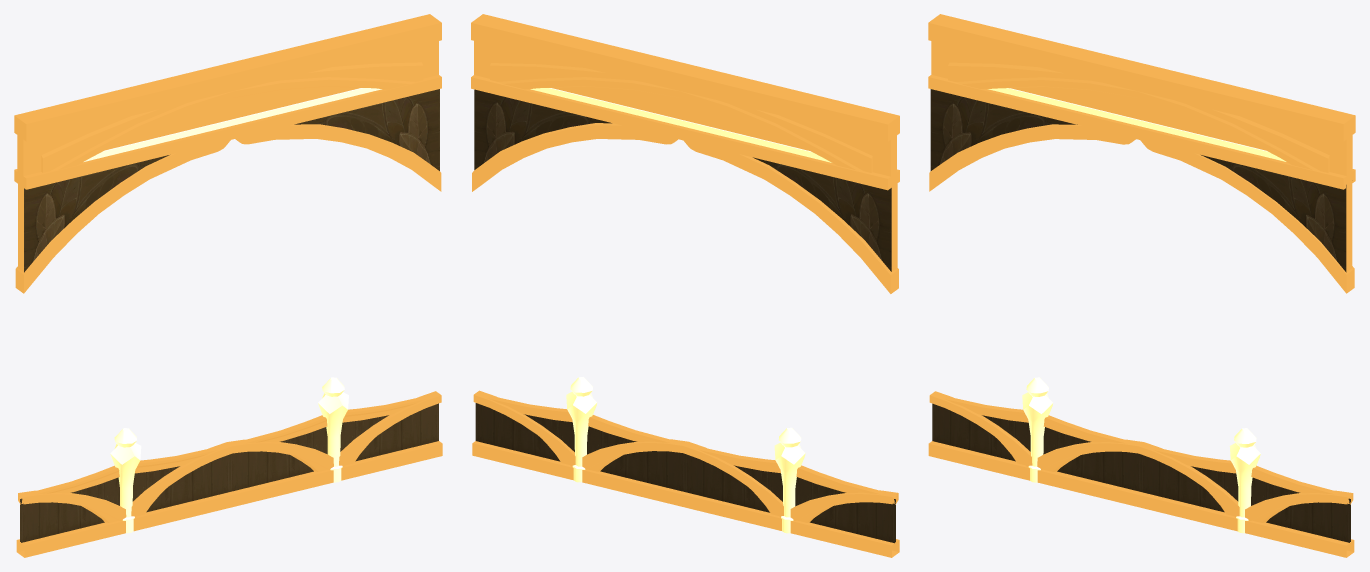
The model's file is Homeworld_Interior_Xm_Room_Wall_05_Vo.fbx.
The picture shows the model from 3 angles, left to right: view 1: azimuth 30°, elevation 25°; view 2: azimuth 150°, elevation 25°; view 3: azimuth 330°, elevation 25°; orthographic projection.
Visible parts, largest first — view 1: Homeworld_Interior_Xm_Room_Wall_05_Vo; view 2: Homeworld_Interior_Xm_Room_Wall_05_Vo; view 3: Homeworld_Interior_Xm_Room_Wall_05_Vo.
Boxes of the visible parts, x1=… form: Homeworld_Interior_Xm_Room_Wall_05_Vo: x1=14, y1=14, x2=442, y2=557; Homeworld_Interior_Xm_Room_Wall_05_Vo: x1=471, y1=14, x2=899, y2=557; Homeworld_Interior_Xm_Room_Wall_05_Vo: x1=928, y1=14, x2=1355, y2=557.
Size of the model in its own units: 5.03 by 5 by 0.3743.
